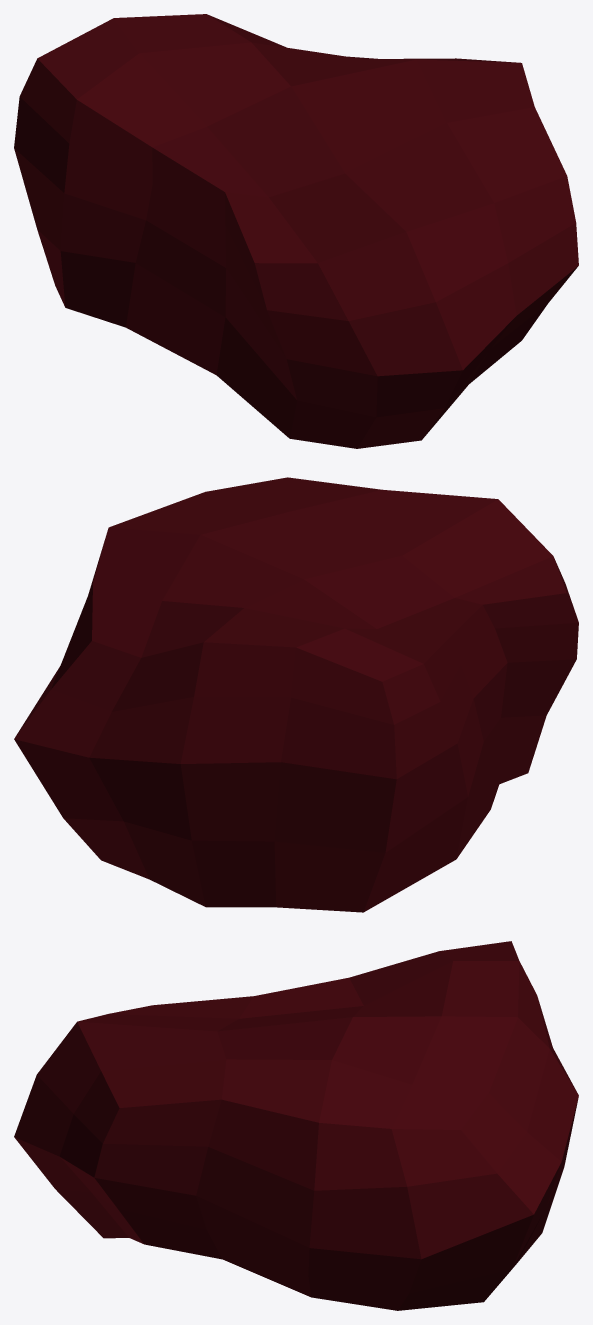
Rendered from Gold.fbx.
3 renders of one model, top to bottom at view 1: azimuth 30°, elevation 25°; view 2: azimuth 150°, elevation 25°; view 3: azimuth 270°, elevation 25°, orthographic. The views are drawn at different scales.
Visible parts, largest first — view 1: Gold_LOD0; view 2: Gold_LOD0; view 3: Gold_LOD0.
Part boxes in pixels (box(x1,y1,x2,y2)): Gold_LOD0: box(14, 14, 578, 448); Gold_LOD0: box(14, 477, 578, 912); Gold_LOD0: box(14, 941, 578, 1310).
Size of what is drawn, in the model's own units: 0.2939 by 0.1894 by 0.3872.
